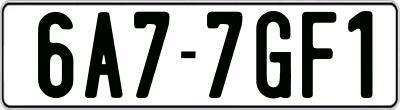1: (347, 11, 372, 103)
6: (35, 12, 72, 104)
7: (133, 12, 173, 100), (206, 9, 241, 95)
A: (85, 11, 123, 97)
F: (300, 9, 338, 99)
G: (255, 8, 295, 100)
